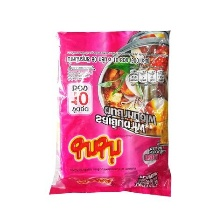snack: (43, 24, 177, 202)
